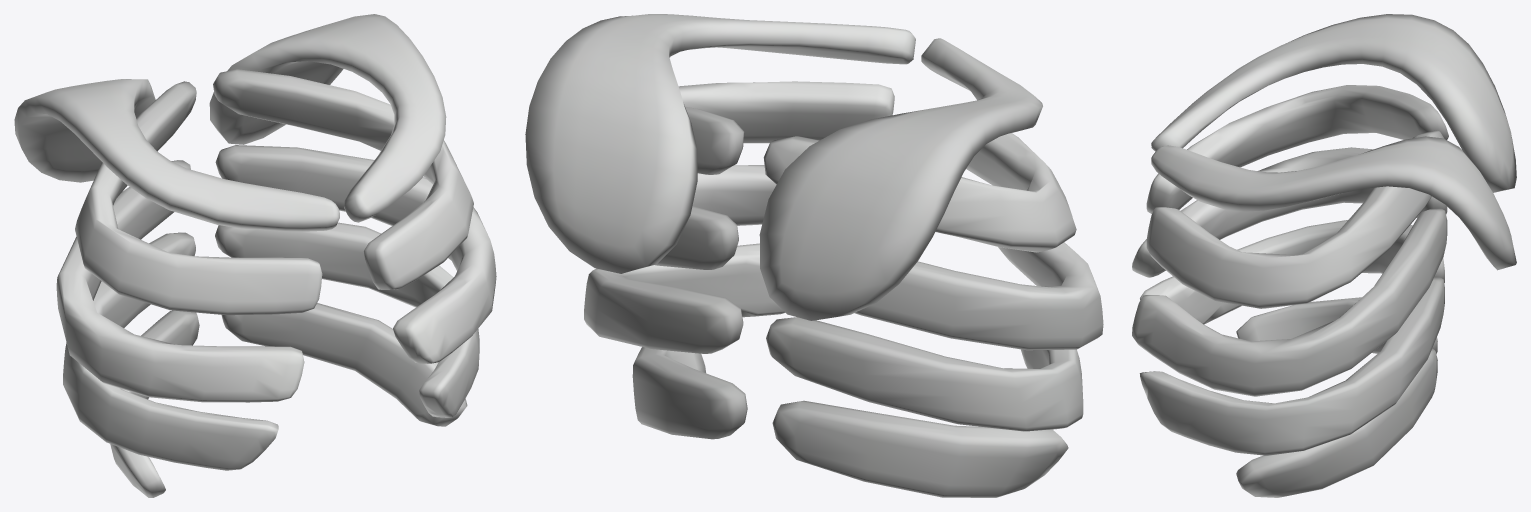
The model's file is kaburga.fbx.
3 renders of one model, left to right at view 1: azimuth 30°, elevation 25°; view 2: azimuth 150°, elevation 25°; view 3: azimuth 270°, elevation 25°, orthographic. The views are drawn at different scales.
Visible parts, largest first — view 1: Skeleton_.008; view 2: Skeleton_.008; view 3: Skeleton_.008.
Boxes of the visible parts, x1=… form: Skeleton_.008: x1=14, y1=14, x2=496, y2=497; Skeleton_.008: x1=525, y1=14, x2=1103, y2=497; Skeleton_.008: x1=1132, y1=14, x2=1516, y2=497.
Bounding box in the file's own units: 32.42 × 26.32 × 27.12.
